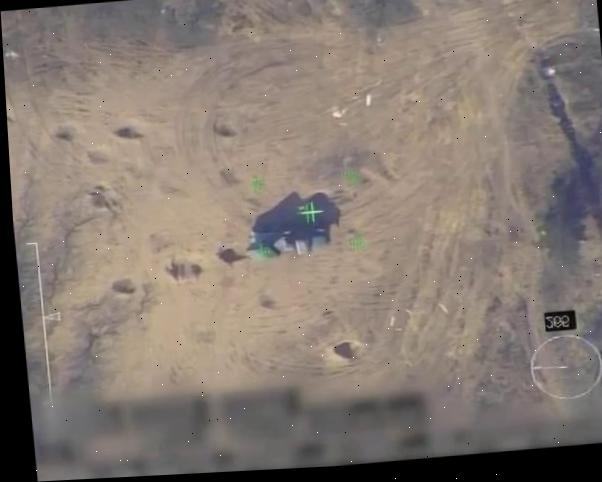rszo: (242, 217, 331, 262)
